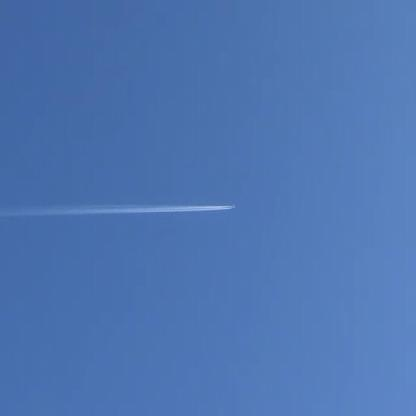CIV_Plane: (229, 203, 238, 208)
